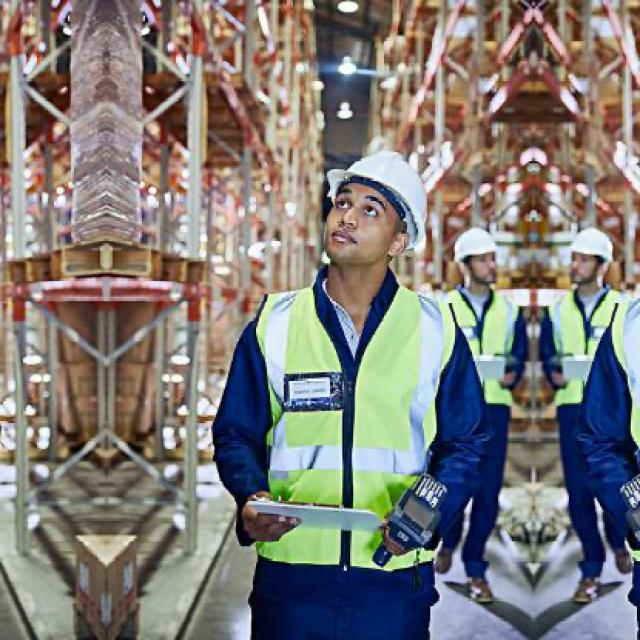helmet: (316, 137, 433, 286), (450, 221, 504, 294), (562, 221, 616, 294)
